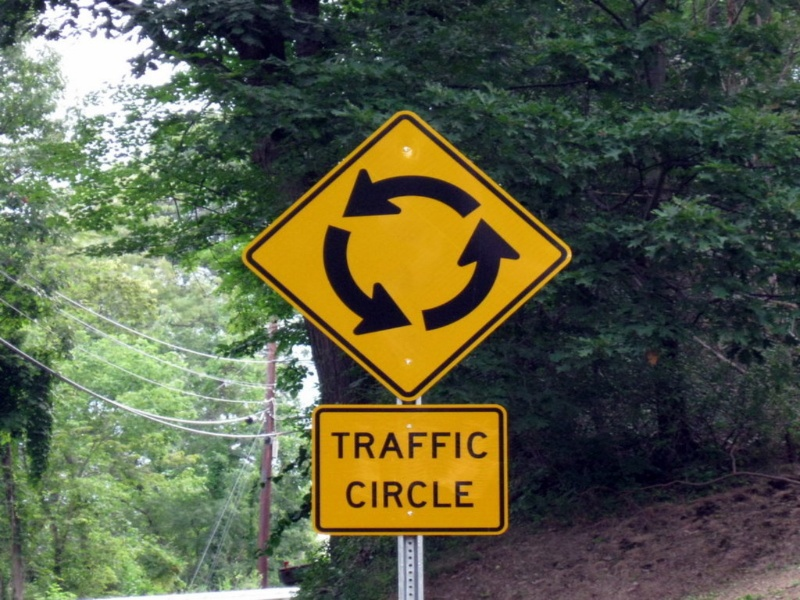roundabout_ahead: (240, 116, 564, 376), (311, 409, 508, 534)
